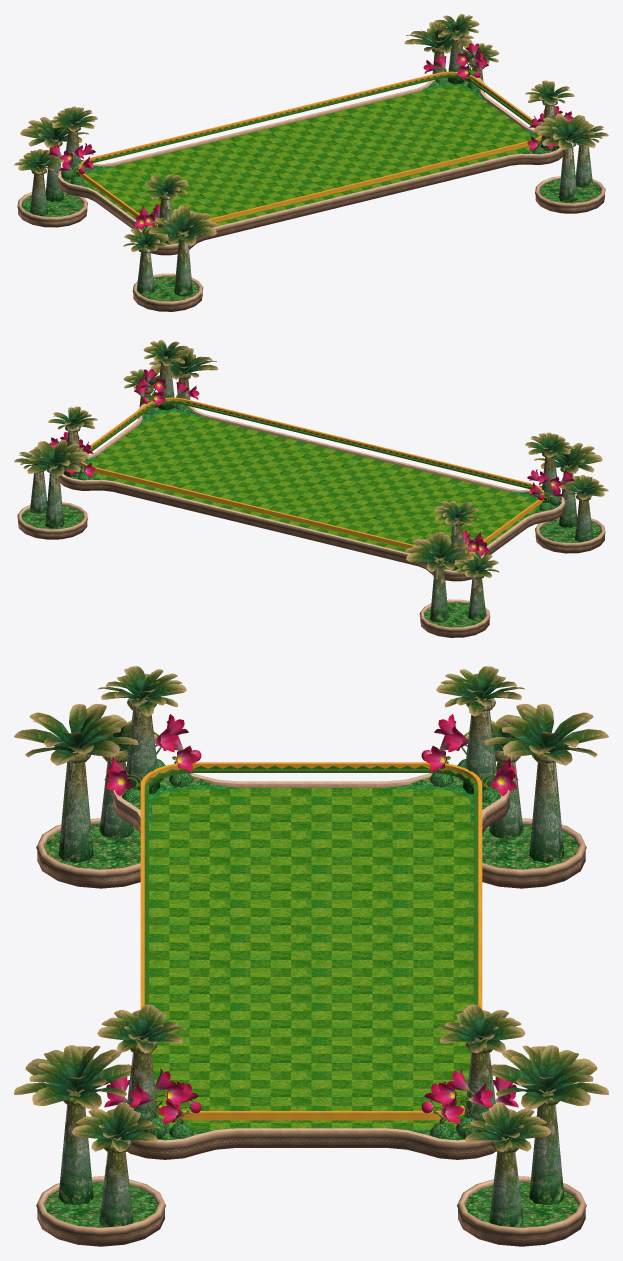
3 views of the same model, one above another, from view 1: azimuth 30°, elevation 25°; view 2: azimuth 150°, elevation 25°; view 3: azimuth 270°, elevation 25° (orthographic). The views are drawn at different scales.
Visible parts, largest first — view 1: STG001, STG001_TREE00_NOCOLI, STG001_TREE03_NOCOLI, STG001_TREE01_NOCOLI, STG001_TREE02_NOCOLI; view 2: STG001, STG001_TREE03_NOCOLI, STG001_TREE00_NOCOLI, STG001_TREE02_NOCOLI, STG001_TREE01_NOCOLI; view 3: STG001, STG001_TREE01_NOCOLI, STG001_TREE02_NOCOLI, STG001_TREE03_NOCOLI, STG001_TREE00_NOCOLI.
Boxes of the visible parts, bbox=[...] form: STG001: bbox=[57, 71, 563, 255]; STG001_TREE00_NOCOLI: bbox=[123, 174, 218, 311]; STG001_TREE03_NOCOLI: bbox=[14, 106, 116, 227]; STG001_TREE01_NOCOLI: bbox=[516, 80, 608, 213]; STG001_TREE02_NOCOLI: bbox=[404, 14, 499, 100]; STG001: bbox=[59, 397, 565, 581]; STG001_TREE03_NOCOLI: bbox=[404, 500, 499, 637]; STG001_TREE00_NOCOLI: bbox=[506, 432, 608, 553]; STG001_TREE02_NOCOLI: bbox=[14, 406, 106, 539]; STG001_TREE01_NOCOLI: bbox=[123, 340, 218, 426]; STG001: bbox=[112, 762, 510, 1159]; STG001_TREE01_NOCOLI: bbox=[14, 1004, 214, 1246]; STG001_TREE02_NOCOLI: bbox=[408, 1004, 608, 1246]; STG001_TREE03_NOCOLI: bbox=[383, 666, 608, 888]; STG001_TREE00_NOCOLI: bbox=[14, 666, 239, 888].
Size of the model in its own units: 24.9 by 5.32 by 14.64.
Materials: 99 (99 with a texture image).
